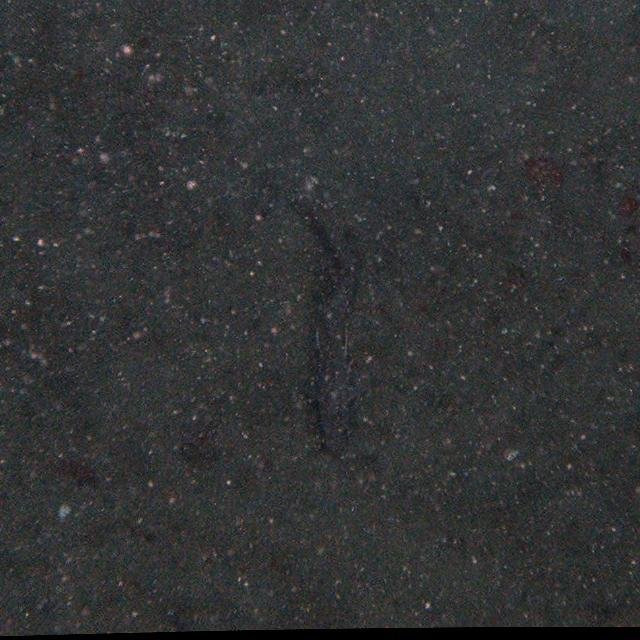roundfish: (304, 214, 369, 456)
